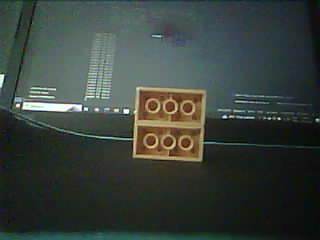lego: (132, 86, 206, 161)
